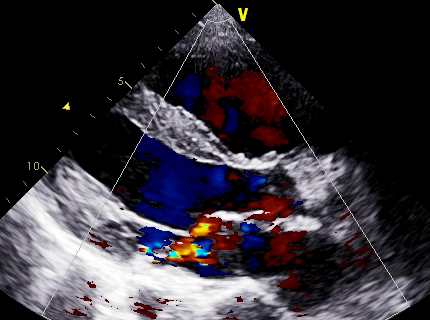MR: (174, 201, 244, 281)
